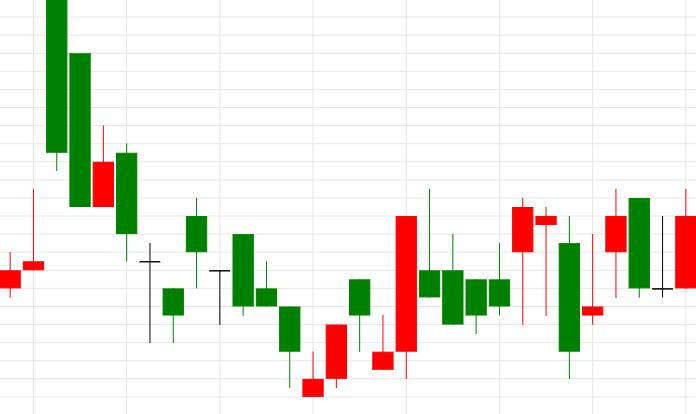inverse_hammer_rise: (186, 197, 324, 397)
